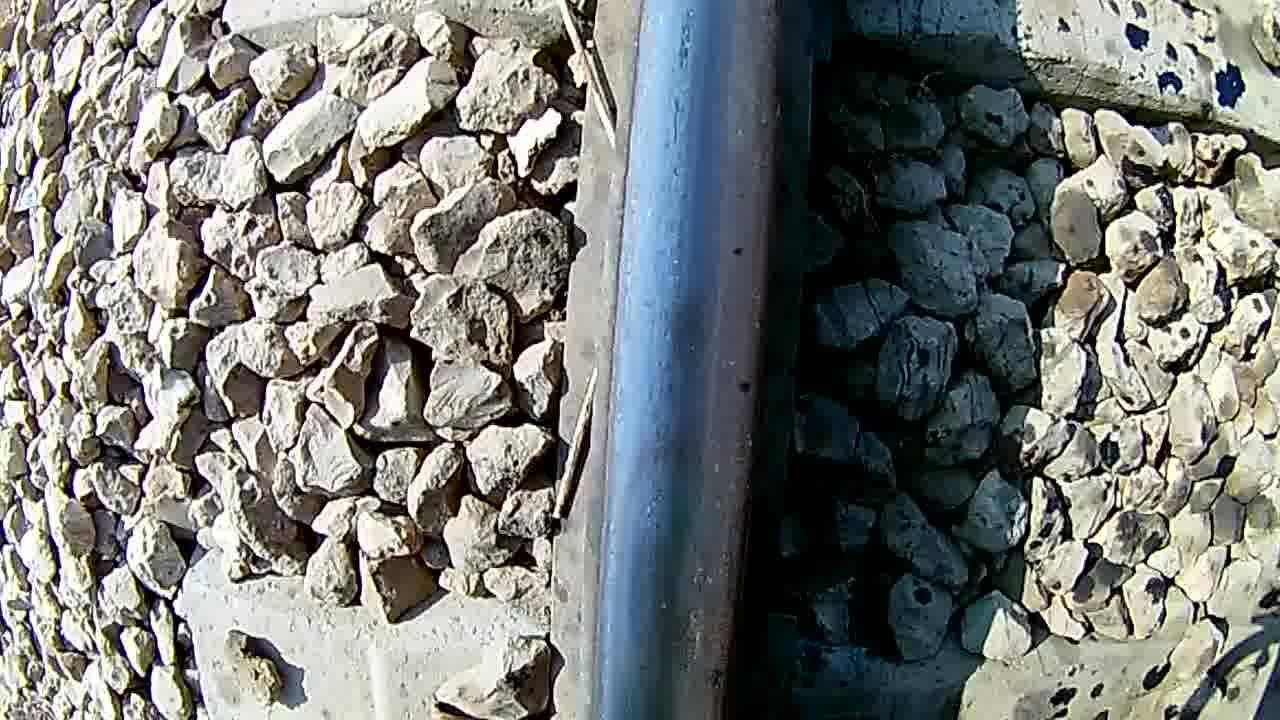crack: (612, 0, 779, 720)
